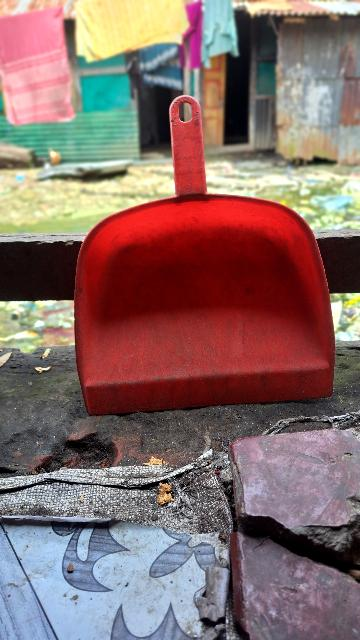hardplastic: (65, 196, 351, 414)
